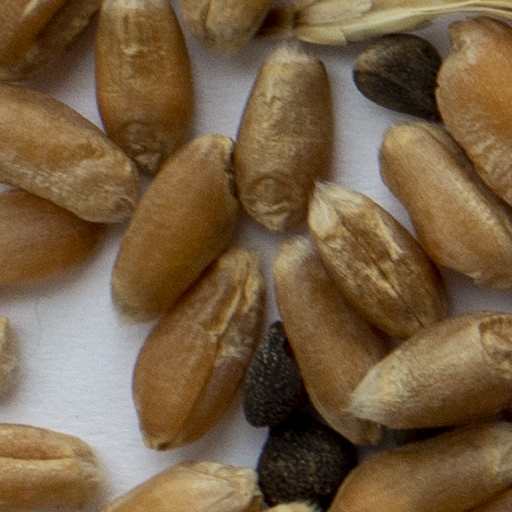Convolvulus-poly: (259, 412, 352, 504), (355, 35, 439, 118), (245, 320, 303, 426)
